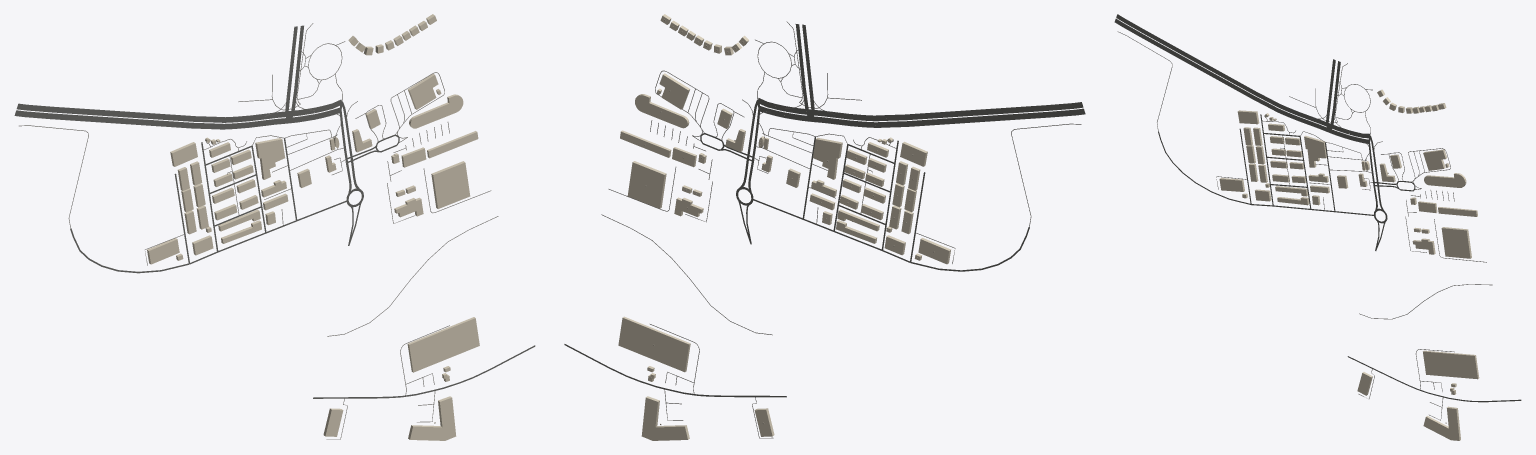
Rendered from historic-palestine-10_18_3519_3124.glb.
The picture shows the model from 3 angles, left to right: view 1: azimuth 30°, elevation 25°; view 2: azimuth 150°, elevation 25°; view 3: azimuth 330°, elevation 25°; orthographic projection. The views are drawn at different scales.
Parts seen in each view (by area): view 1: Building_.008, Road 31, Road 31.001, Building_.001, Building_.012, Building_.043, Building_.005, Building_.003, Building_.009; view 2: Building_.008, Road 31, Road 31.001, Building_.001, Building_.012, Building_.043, Building_.005, Building_.003, Building_.009, Road חשמל; view 3: Building_.008, Road 31, Road 31.001, Building_.001, Building_.012, Building_.043, Building_.005, Building_.003.
Boxes of the visible parts, x1,y1,x2,y2 form: Building_.008: [407, 317, 479, 372]; Road 31: [14, 110, 289, 129]; Road 31.001: [16, 103, 286, 122]; Building_.001: [431, 161, 470, 208]; Building_.012: [408, 396, 456, 440]; Building_.043: [255, 138, 285, 179]; Building_.005: [409, 94, 463, 128]; Building_.003: [407, 73, 438, 109]; Building_.009: [147, 238, 179, 264]; Building_.008: [618, 316, 690, 372]; Road 31: [810, 108, 1085, 127]; Road 31.001: [814, 102, 1083, 121]; Building_.001: [627, 161, 666, 208]; Building_.012: [641, 396, 689, 440]; Building_.043: [813, 137, 842, 179]; Building_.005: [635, 94, 689, 128]; Building_.003: [659, 73, 689, 109]; Building_.009: [918, 237, 950, 264]; Road חשמל: [564, 344, 786, 397]; Building_.008: [1423, 350, 1479, 379]; Road 31: [1114, 18, 1328, 132]; Road 31.001: [1116, 14, 1327, 126]; Building_.001: [1441, 227, 1471, 258]; Building_.012: [1423, 406, 1460, 440]; Building_.043: [1304, 135, 1326, 167]; Building_.005: [1424, 173, 1466, 187]; Building_.003: [1423, 149, 1446, 170].
Size of the model in its own units: 1170 by 968 by 10.2.
